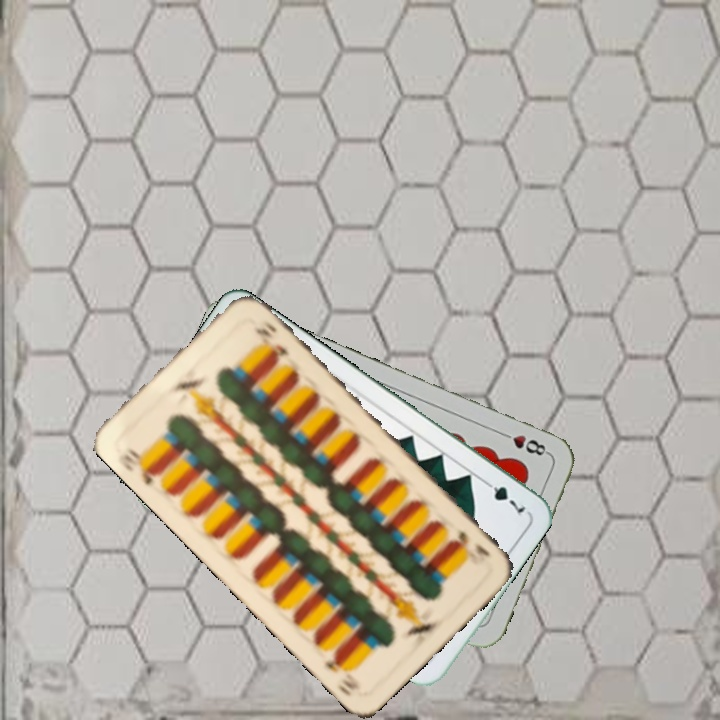E10: (114, 443, 164, 488), (449, 527, 493, 559)
G7: (478, 475, 528, 519)
H8: (496, 428, 552, 458)
